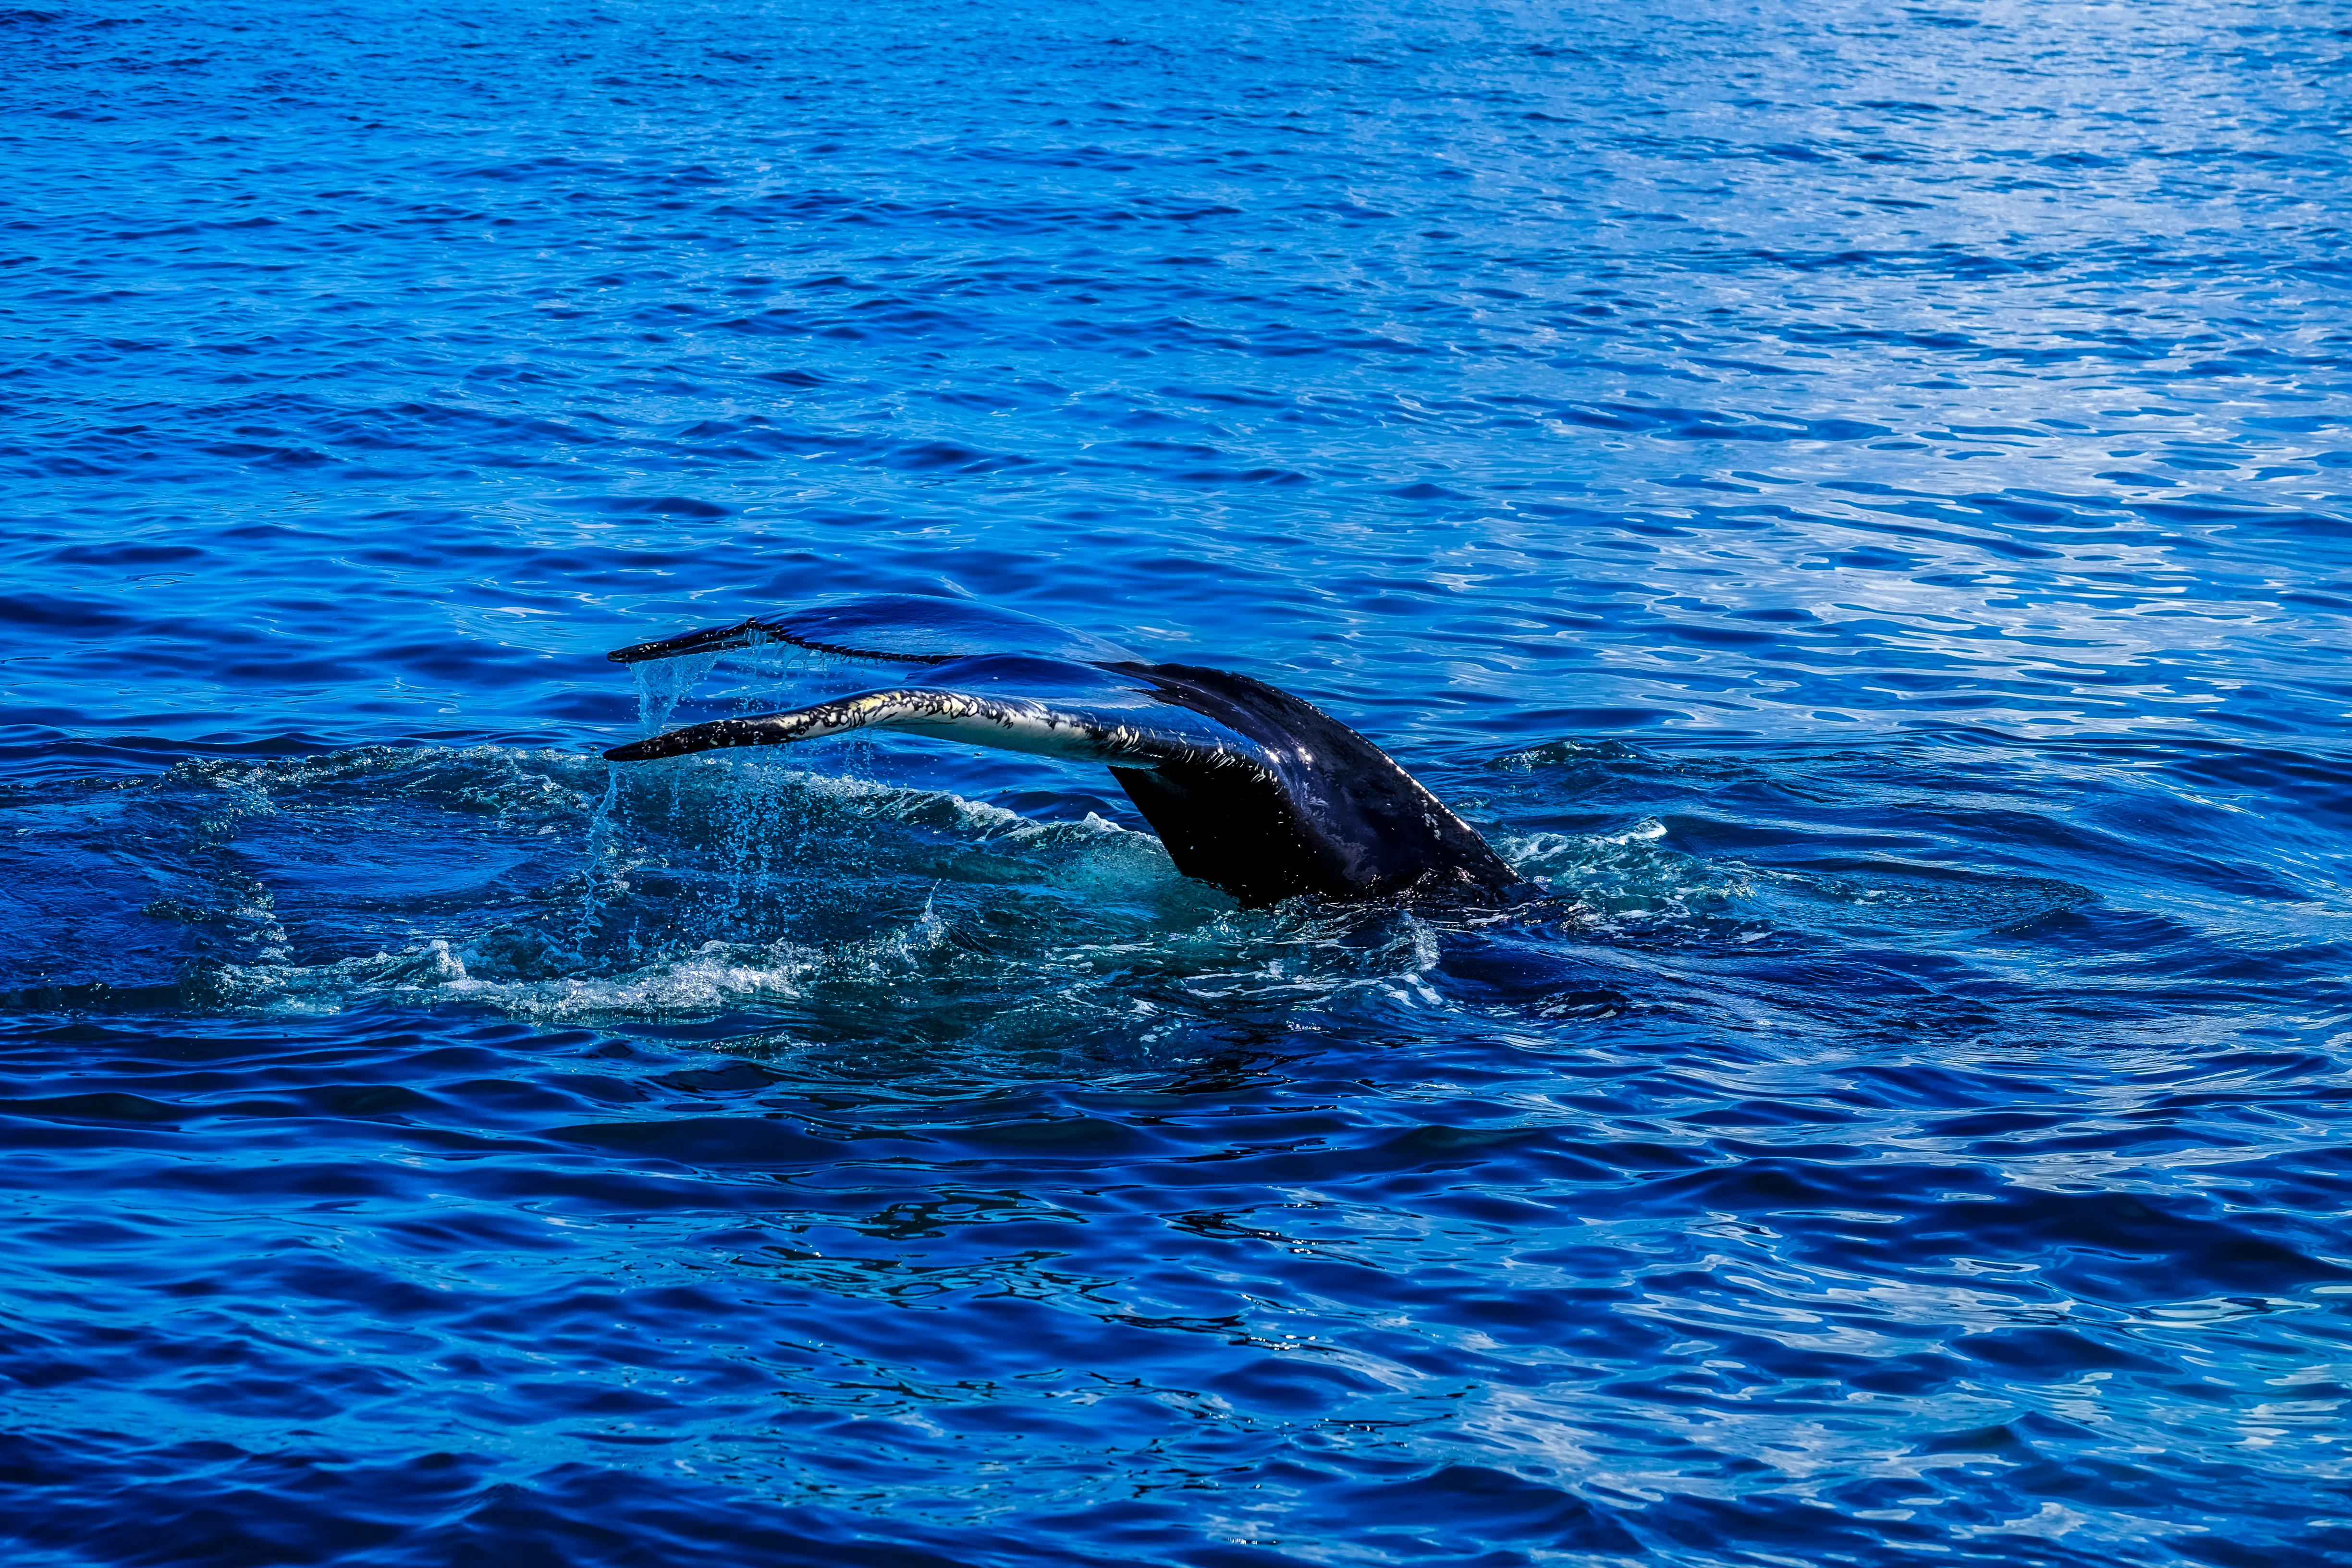whale: (602, 584, 1536, 910)
